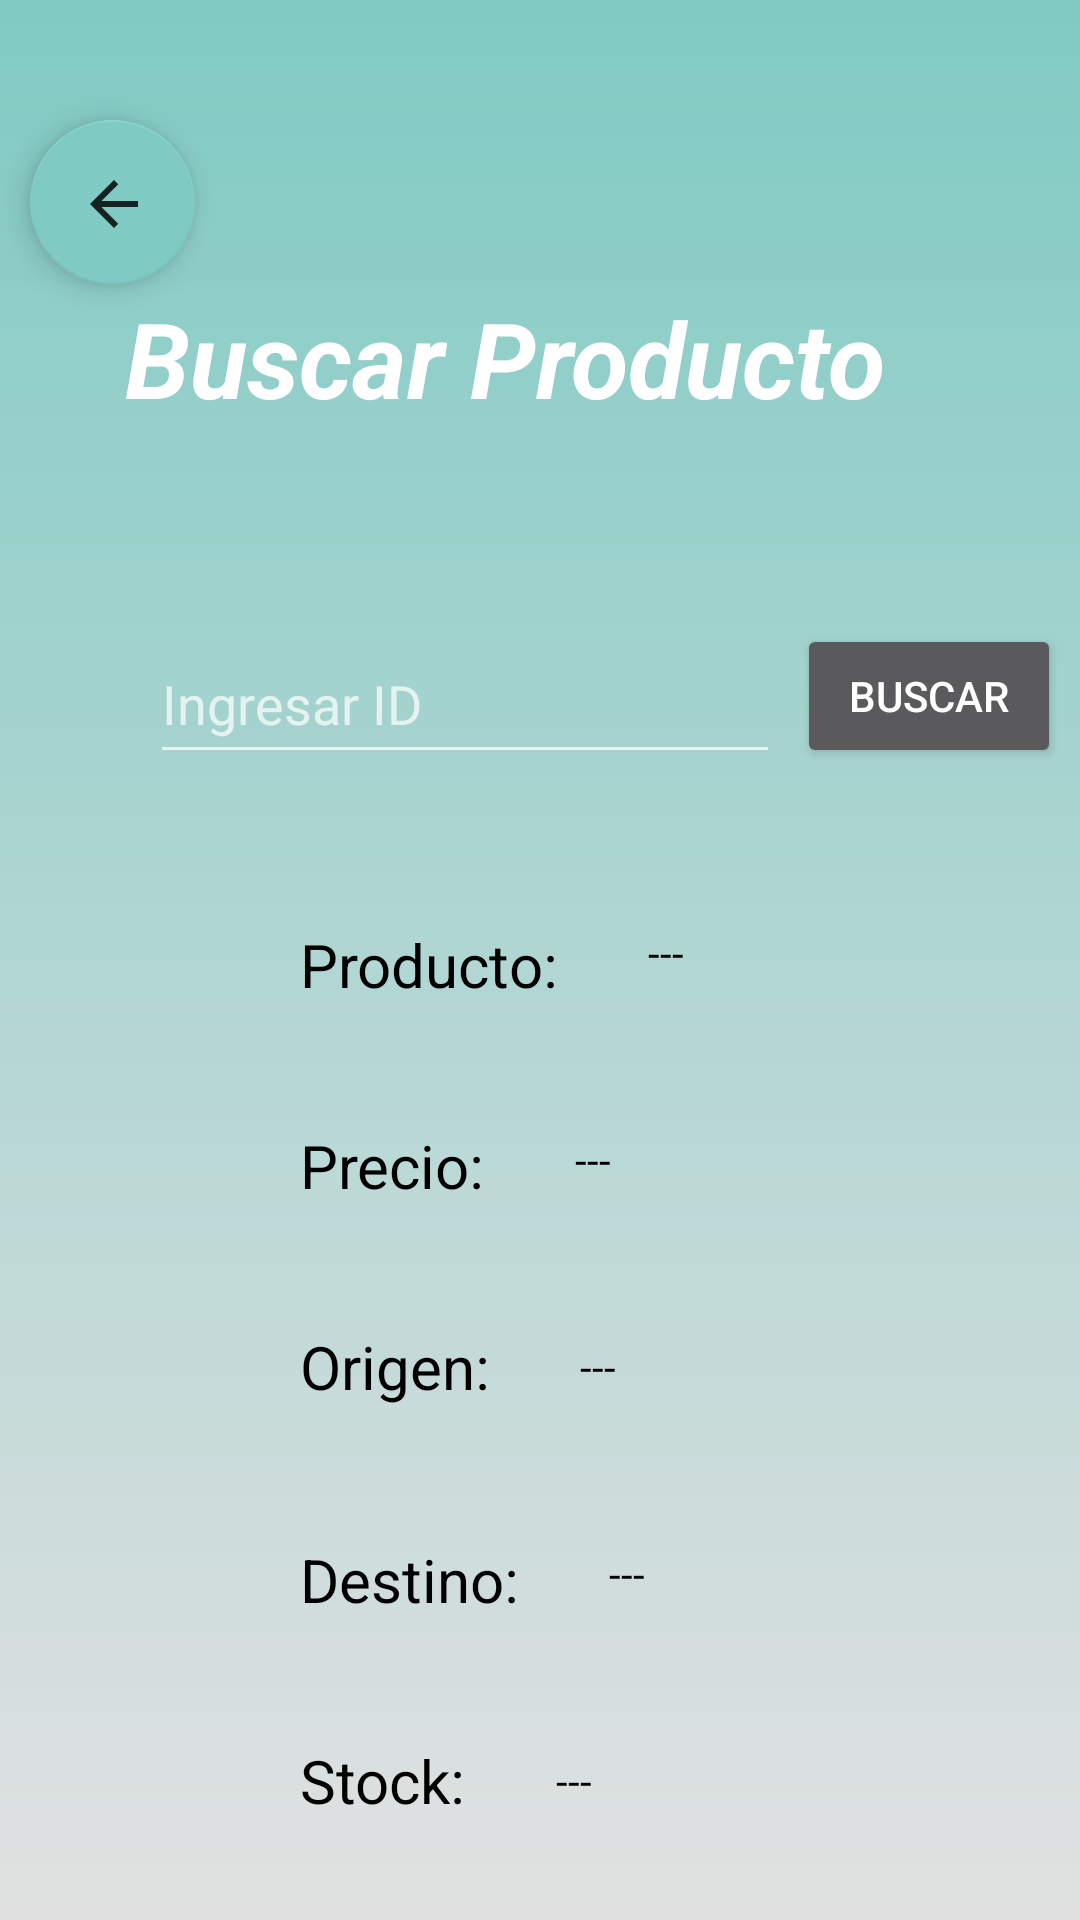

Named icons in this screenshot (1080*1920) and their centers, point (x, y):
atras: point (114, 204)
